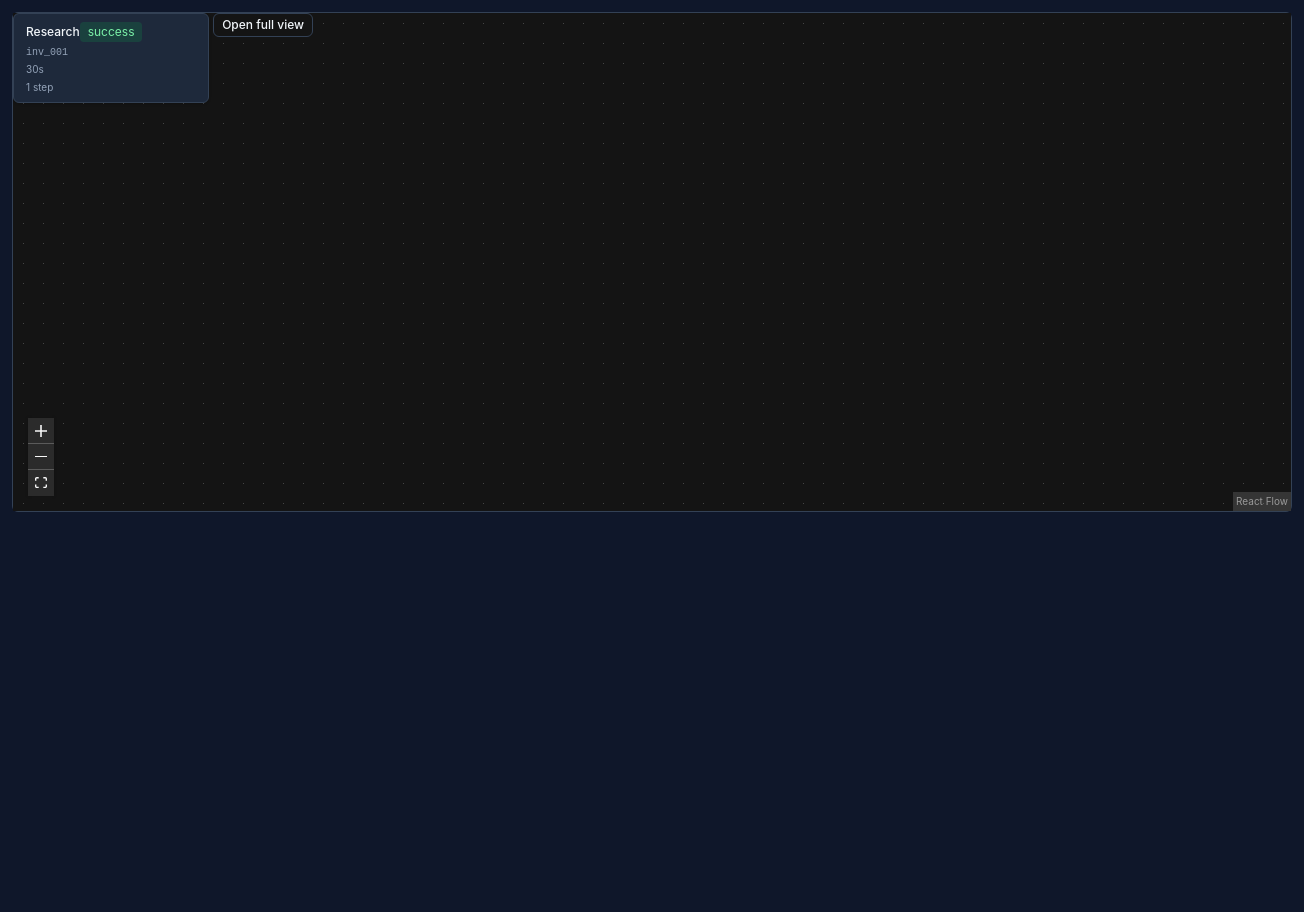
Test: InvocationGraph › failed task: stream panel shows node error
Click the button with test id "invocation-node-inv_001" at (111, 58), box [13,13,209,103]
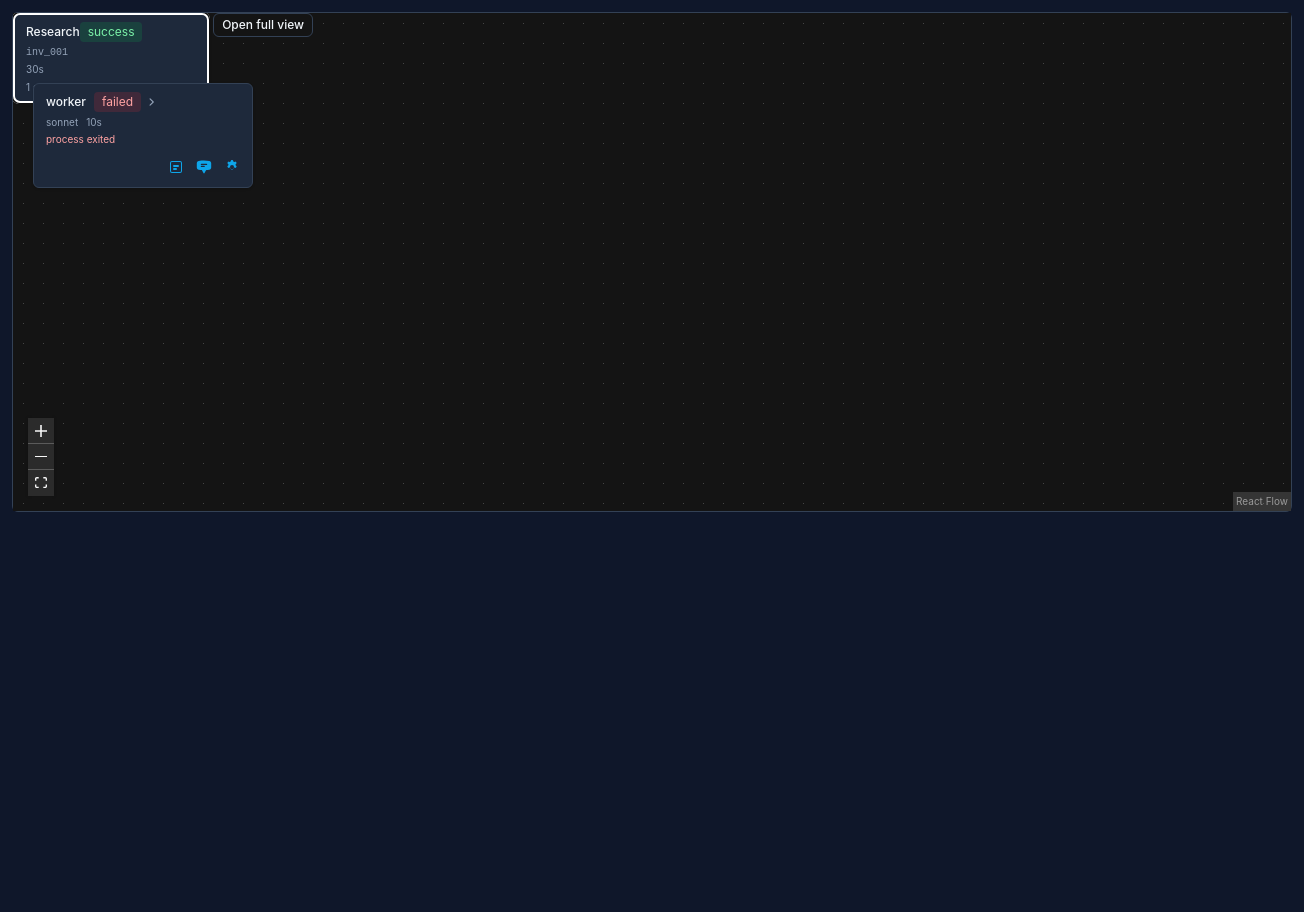
Click the button "worker failed sonnet 10s process exited" at (143, 117), box [34,84,252,151]
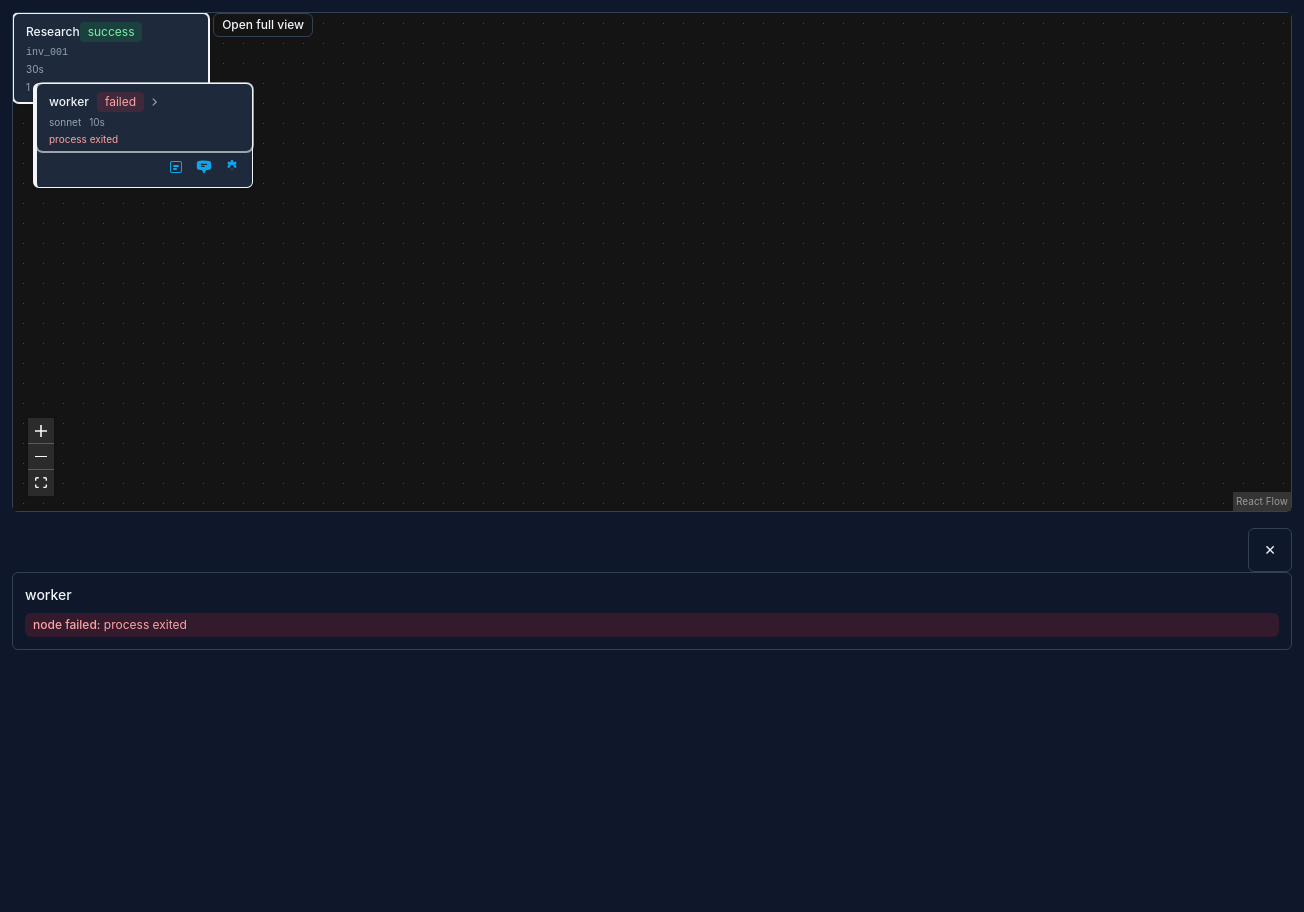
Expected: the footer with test id "stream-node-error" is shown, [25,613,1279,637]
